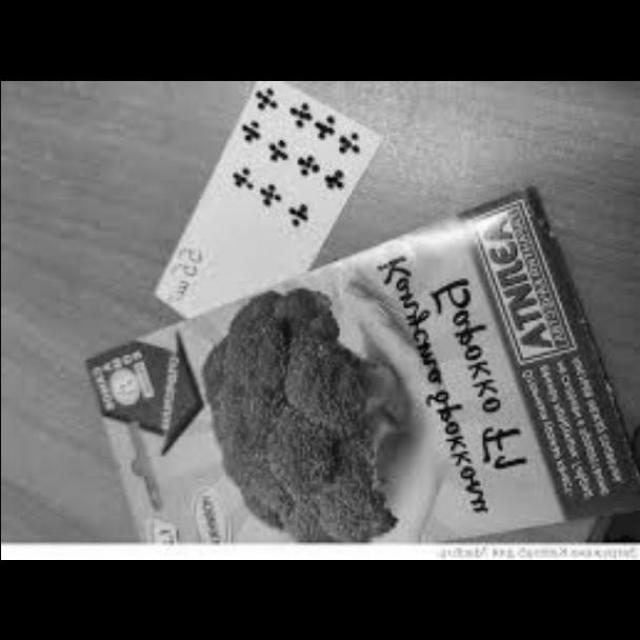broccoli: (187, 299, 426, 547)
